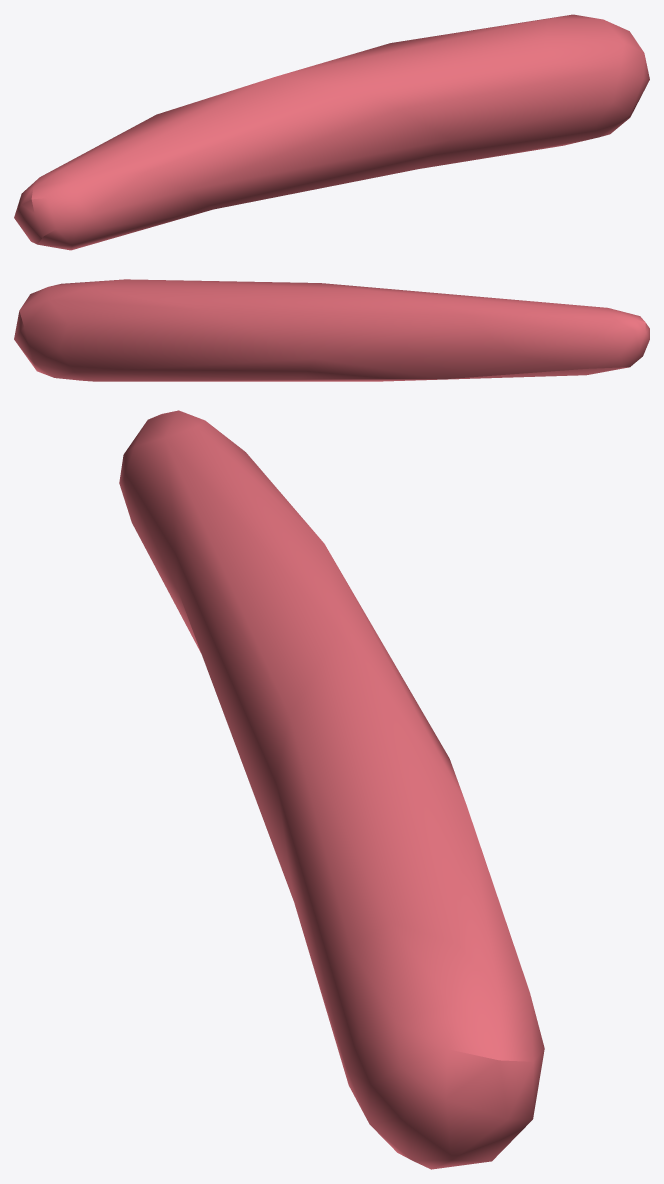
The model's file is fma8673_fj6130.glb.
The picture shows the model from 3 angles, top to bottom: view 1: azimuth 30°, elevation 25°; view 2: azimuth 150°, elevation 25°; view 3: azimuth 270°, elevation 25°; orthographic projection. The views are drawn at different scales.
Parts seen in each view (by area): view 1: FMA8673_FJ6130; view 2: FMA8673_FJ6130; view 3: FMA8673_FJ6130.
Part boxes in pixels (left/top/right/bottom): FMA8673_FJ6130: left=14, top=14, right=649, bottom=250; FMA8673_FJ6130: left=14, top=279, right=649, bottom=381; FMA8673_FJ6130: left=119, top=410, right=544, bottom=1169.
Bounding box in the file's own units: 0.0168 × 0.00378 × 0.00554.
